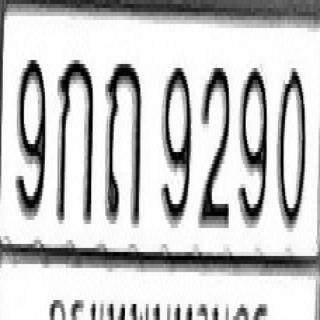A01: (56, 54, 95, 226)
A22: (104, 58, 143, 225)
N00: (276, 62, 306, 226)
N02: (198, 62, 231, 228)
N09: (15, 54, 48, 222), (160, 62, 193, 230), (237, 62, 267, 226)
